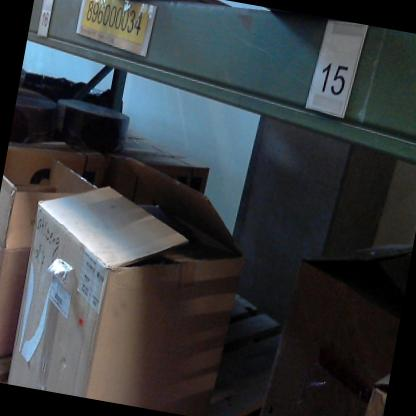pallet: (0, 203, 392, 416)
